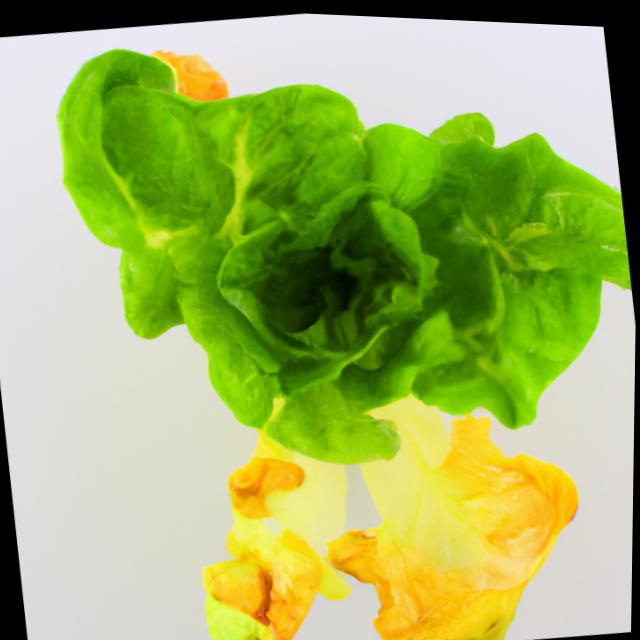-N: (21, 1, 640, 640)
